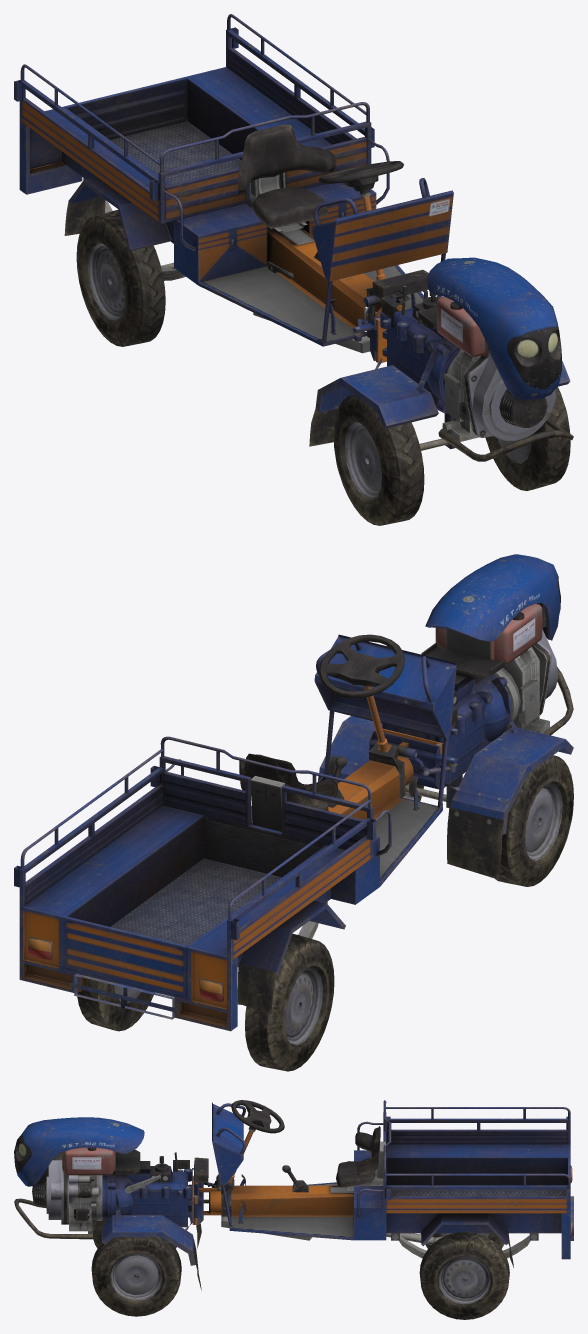
Rendered from tractor.gltf.
3 views of the same model, one above another, from view 1: azimuth 30°, elevation 25°; view 2: azimuth 150°, elevation 25°; view 3: azimuth 270°, elevation 25° (orthographic). The views are drawn at different scales.
Visible parts, largest first — view 1: Patpat_kasa, Patpat_Onteker, Patpat_Arkateker, Patpat_Direksiyon; view 2: Patpat_kasa, Patpat_Arkateker, Patpat_Onteker, Patpat_Direksiyon; view 3: Patpat_kasa, Patpat_Arkateker, Patpat_Onteker, Patpat_Direksiyon.
Boxes of the visible parts, left/top/right/bottom form: Patpat_kasa: left=14, top=14, right=573, bottom=461; Patpat_Onteker: left=333, top=386, right=570, bottom=525; Patpat_Arkateker: left=76, top=210, right=174, bottom=346; Patpat_Direksiyon: left=318, top=161, right=403, bottom=197; Patpat_kasa: left=14, top=554, right=573, bottom=1031; Patpat_Arkateker: left=77, top=933, right=334, bottom=1071; Patpat_Onteker: left=405, top=755, right=573, bottom=886; Patpat_Direksiyon: left=319, top=634, right=404, bottom=698; Patpat_kasa: left=14, top=1100, right=573, bottom=1290; Patpat_Arkateker: left=419, top=1232, right=509, bottom=1319; Patpat_Onteker: left=91, top=1219, right=181, bottom=1316; Patpat_Direksiyon: left=231, top=1100, right=284, bottom=1133.
Size of the model in its own units: 1.73 by 2.07 by 5.7.
Materials: 1 (1 with a texture image).
